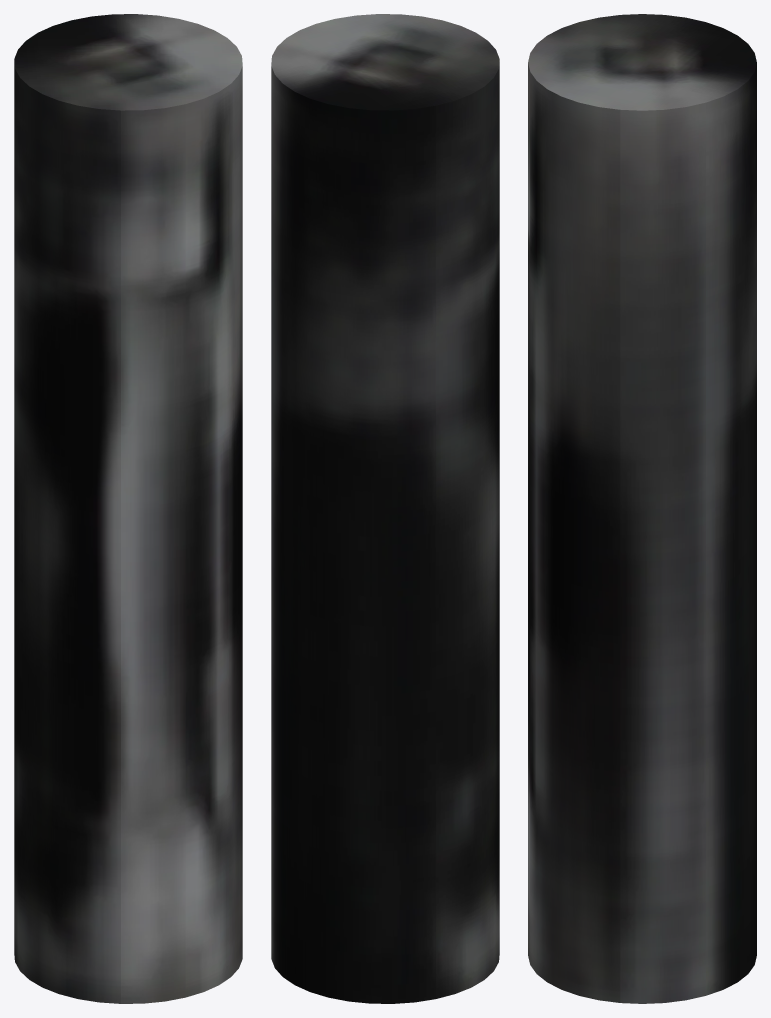
The model's file is seat__hinge_sleeve.glb.
3 renders of one model, left to right at view 1: azimuth 30°, elevation 25°; view 2: azimuth 150°, elevation 25°; view 3: azimuth 270°, elevation 25°, orthographic.
Parts seen in each view (by area): view 1: world; view 2: world; view 3: world.
Boxes of the visible parts, x1,y1,x2,y2 form: world: (14,14,242,1003); world: (271,14,499,1003); world: (528,14,756,1003).
Size of the model in its own units: 0.036 by 0.155 by 0.036.
1 material, 1 textured.
